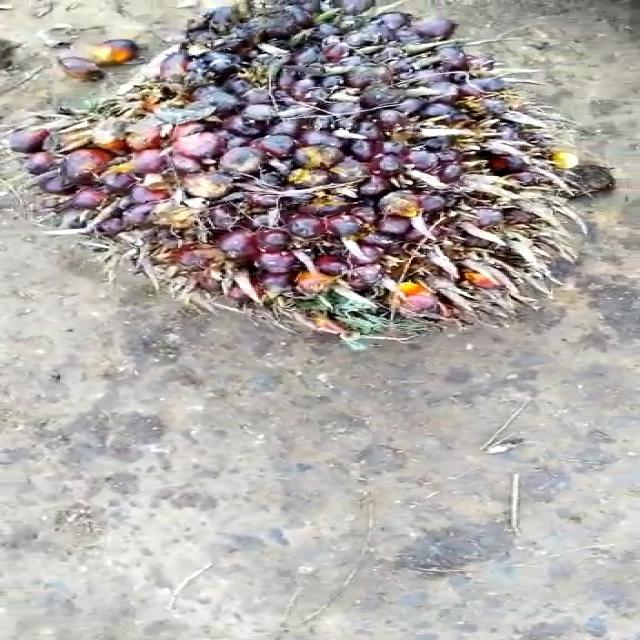palm oil: (12, 0, 631, 348)
